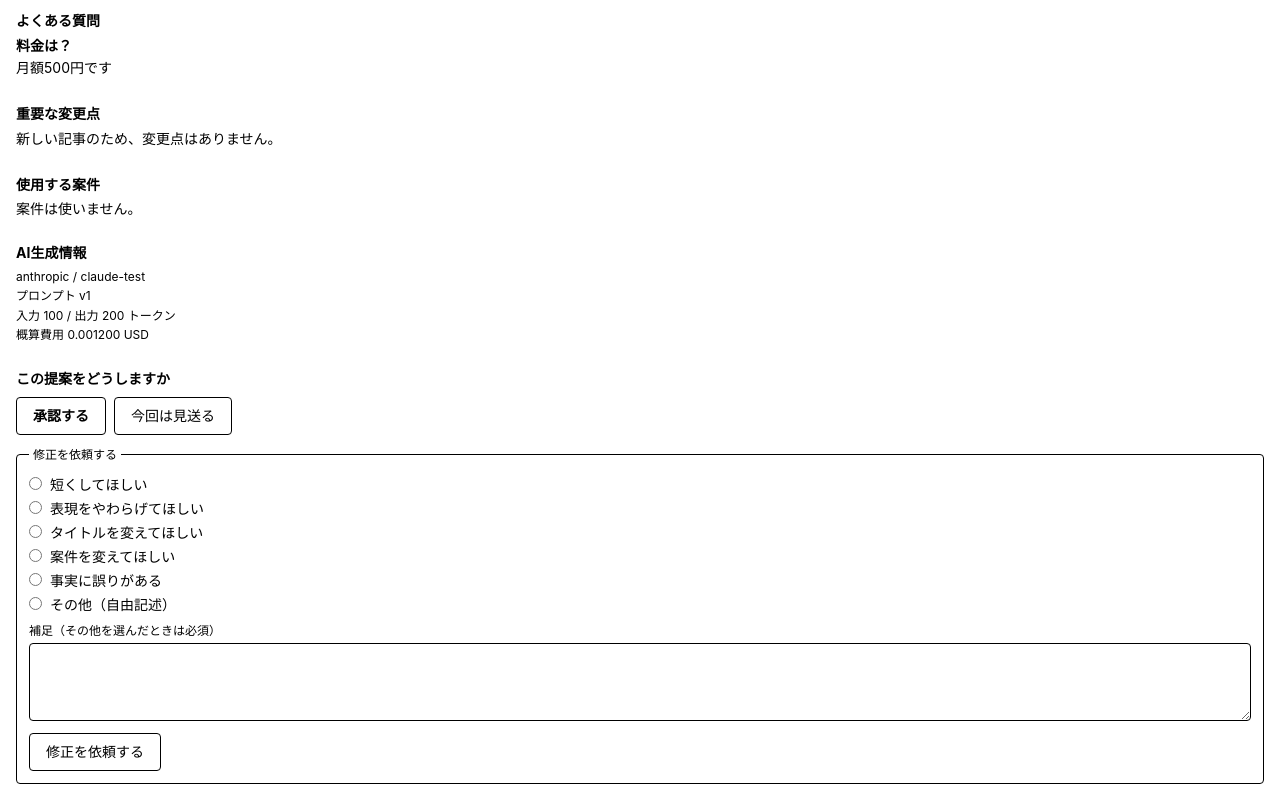
操作（F-6、SPEC 6.1） › 送信に失敗したらサーバーの文言を出す
The width and height of the screenshot is (1280, 800).
(page scrolled)
What coordinates should you click on to do the following:
click the button "承認する"
I would click on:
 (61, 416)
Its box is [16,397,106,435].
(page scrolled)
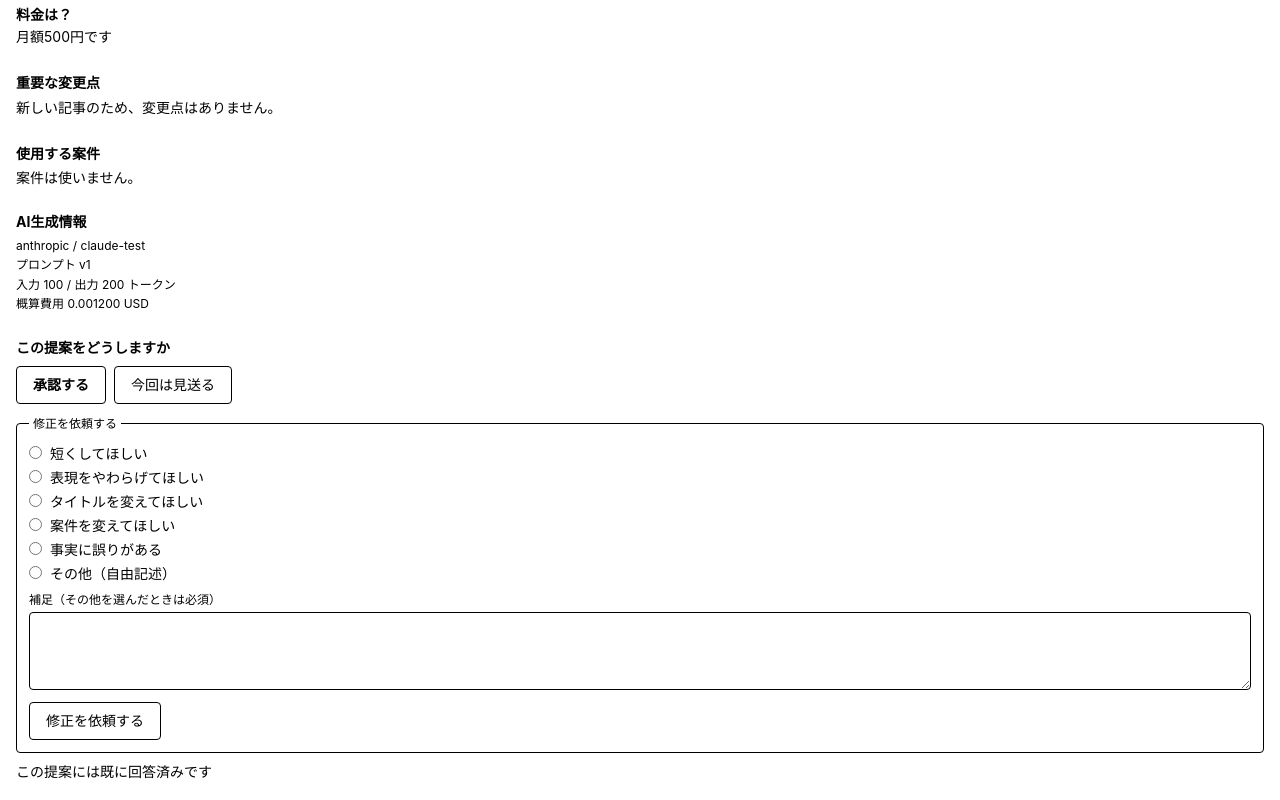
Expected: the text "この提案には既に回答済みです" is shown, [16,763,212,780]
